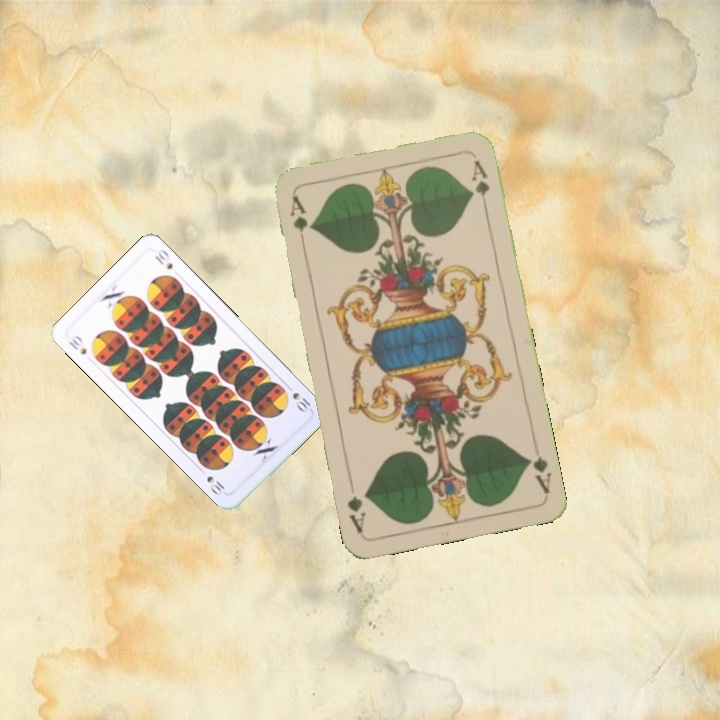GA: (522, 451, 553, 497), (286, 191, 313, 235)
S10: (282, 380, 313, 415), (64, 331, 89, 357)
